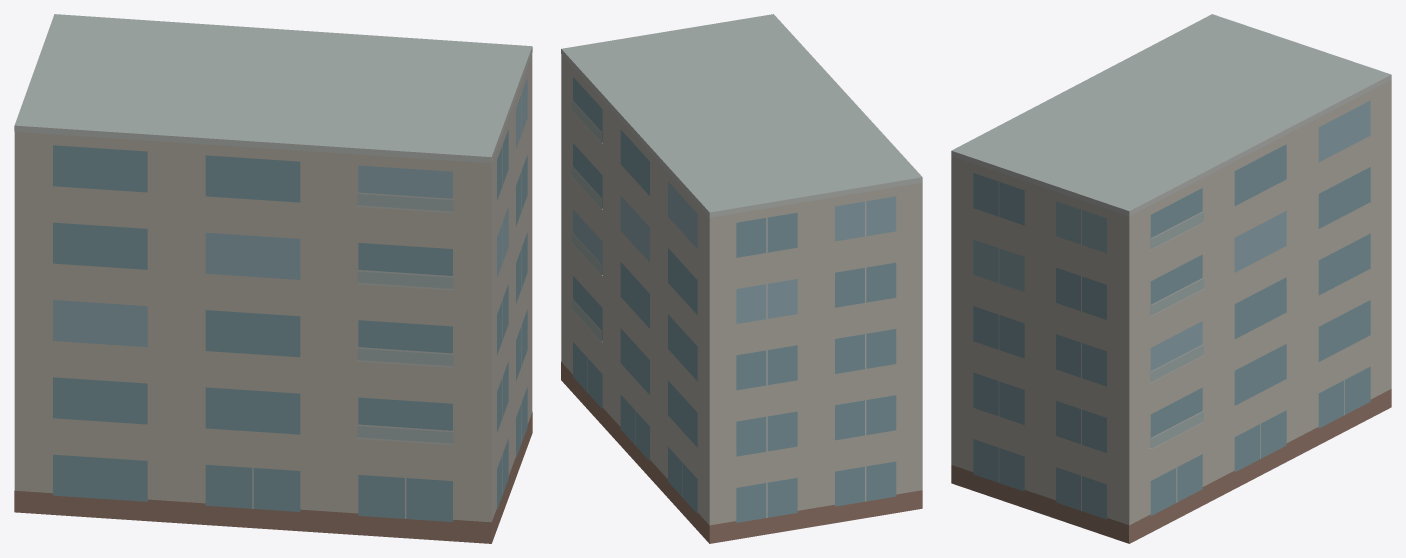
The model's file is survey-upis-32669066.glb.
The picture shows the model from 3 angles, left to right: view 1: azimuth 30°, elevation 25°; view 2: azimuth 150°, elevation 25°; view 3: azimuth 270°, elevation 25°; orthographic projection. The views are drawn at different scales.
Visible parts, largest first — view 1: survey-upis-32669066.tmp; view 2: survey-upis-32669066.tmp; view 3: survey-upis-32669066.tmp.
Part boxes in pixels (left/top/right/bottom): survey-upis-32669066.tmp: left=14, top=14, right=532, bottom=543; survey-upis-32669066.tmp: left=561, top=14, right=922, bottom=543; survey-upis-32669066.tmp: left=951, top=14, right=1391, bottom=543.
Bounding box in the file's own units: 19.4 × 15.25 × 18.3.
